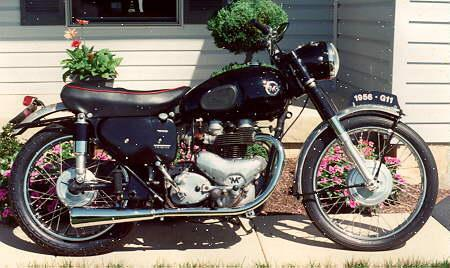motorcycle: (2, 32, 447, 261)
